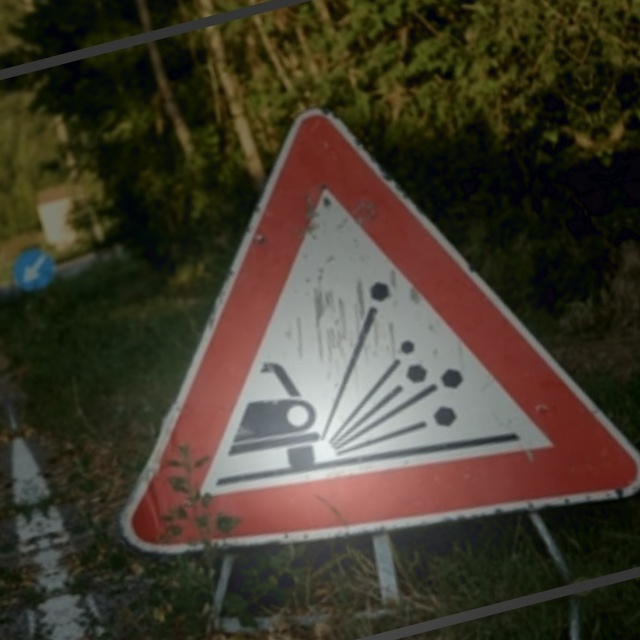Loose_Gravel: (55, 65, 612, 591)
